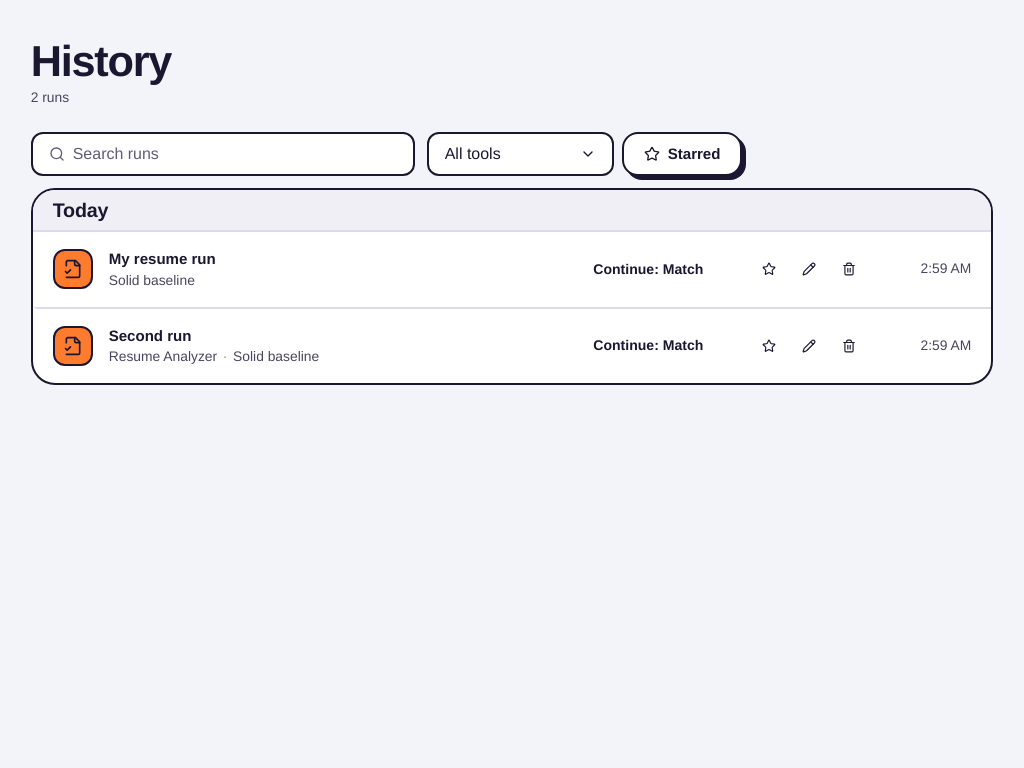
Test: HistoryPage › after a delete moves focus to the run that took the deleted one's place, not into the search field
Click the button named "Delete My resume run".
click(849, 269)  # box left=831, top=251, right=867, bottom=287
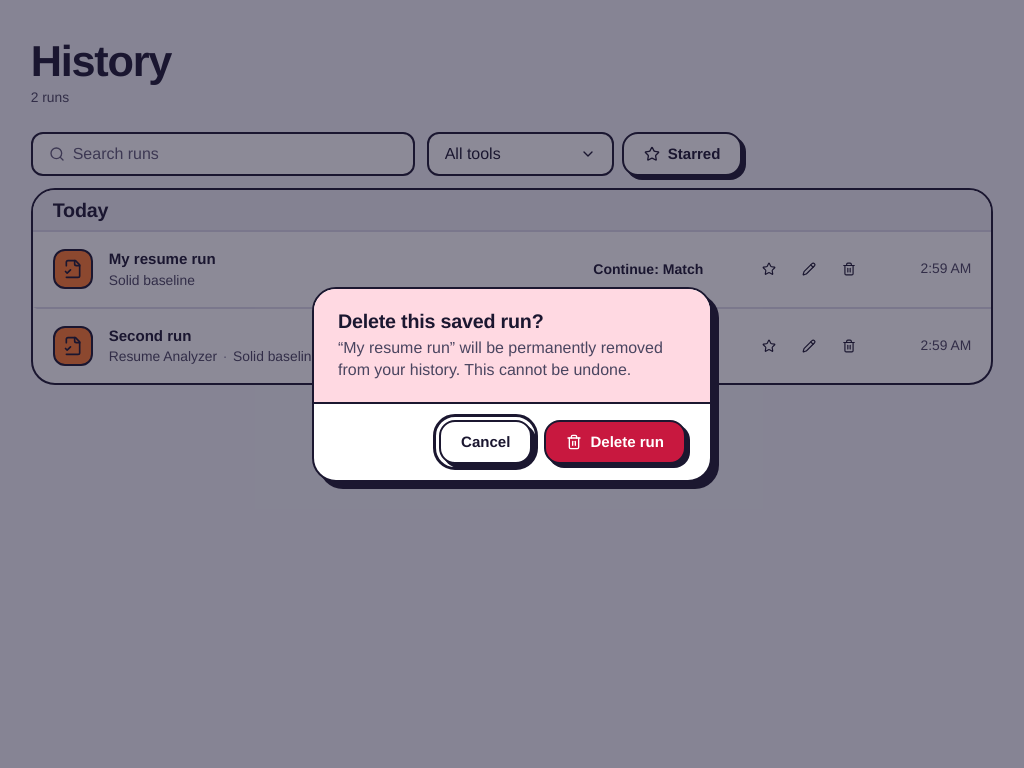
Click the button "Delete run".
click(615, 442)  # box left=544, top=420, right=686, bottom=464
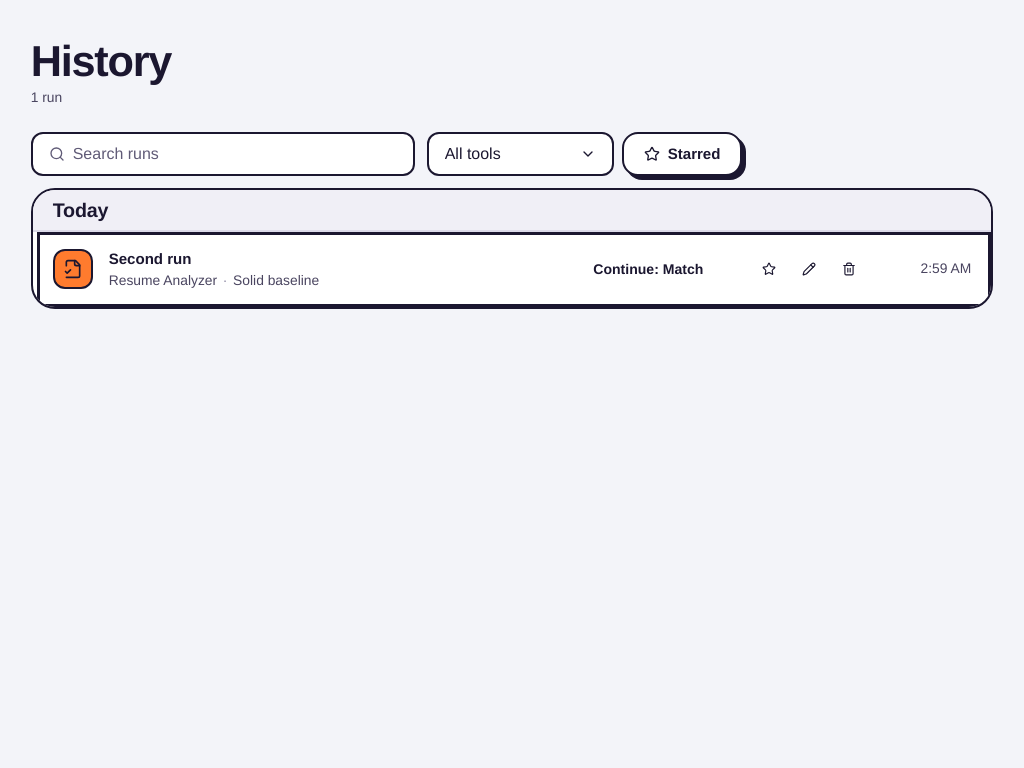
Expected: the dialog is gone
